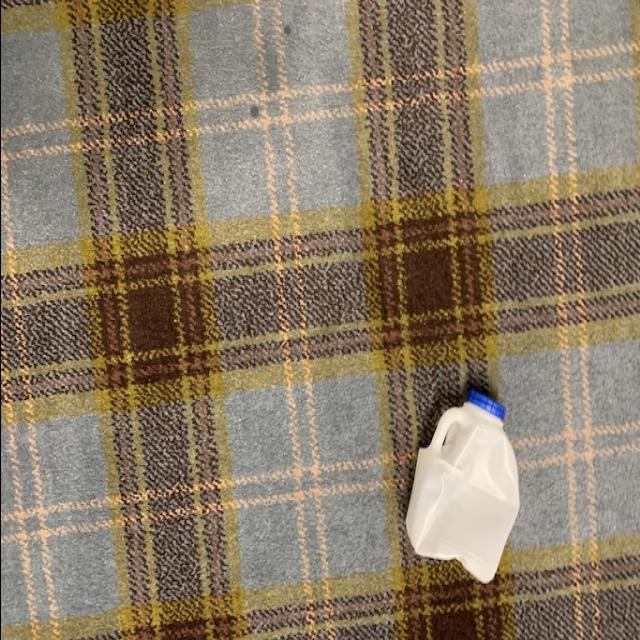litter: (402, 382, 523, 588)
